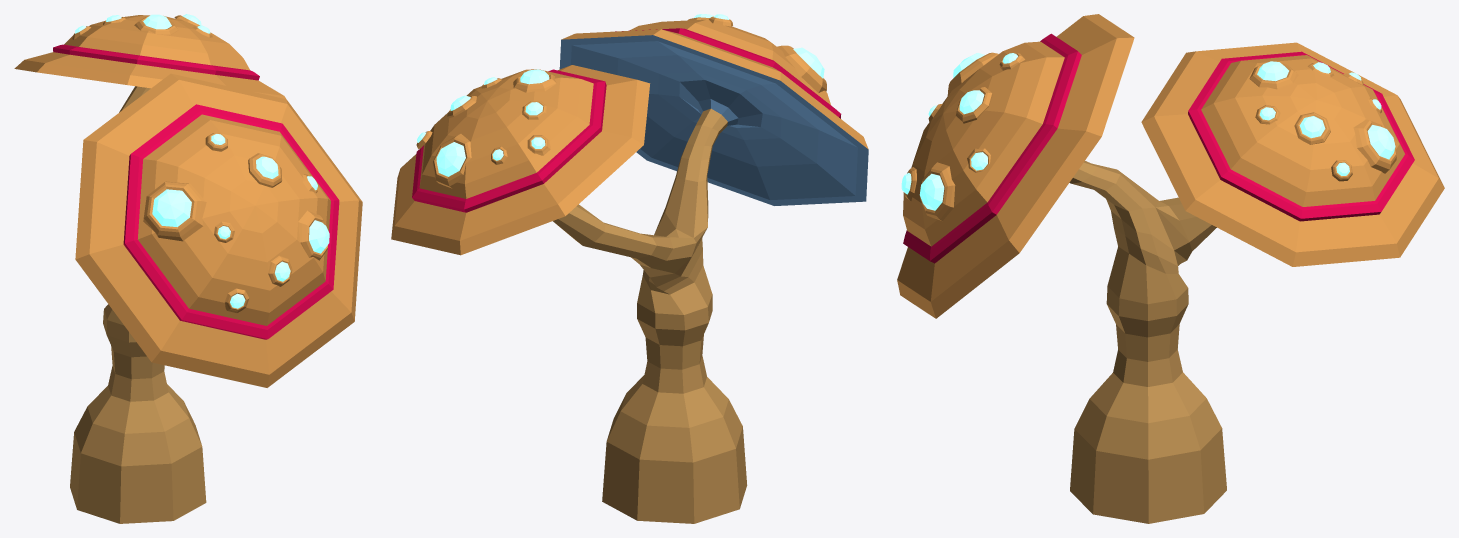
The model's file is Mushroom_03_Var_05.fbx.
The picture shows the model from 3 angles, left to right: view 1: azimuth 30°, elevation 25°; view 2: azimuth 150°, elevation 25°; view 3: azimuth 270°, elevation 25°; orthographic projection. The views are drawn at different scales.
Parts seen in each view (by area): view 1: Mushroom_03_Var_05; view 2: Mushroom_03_Var_05; view 3: Mushroom_03_Var_05.
Part boxes in pixels (left/top/right/bottom): Mushroom_03_Var_05: left=14, top=14, right=362, bottom=523; Mushroom_03_Var_05: left=391, top=14, right=868, bottom=523; Mushroom_03_Var_05: left=897, top=14, right=1444, bottom=523.
Size of the model in its own units: 0.3708 by 0.3494 by 0.2771.
